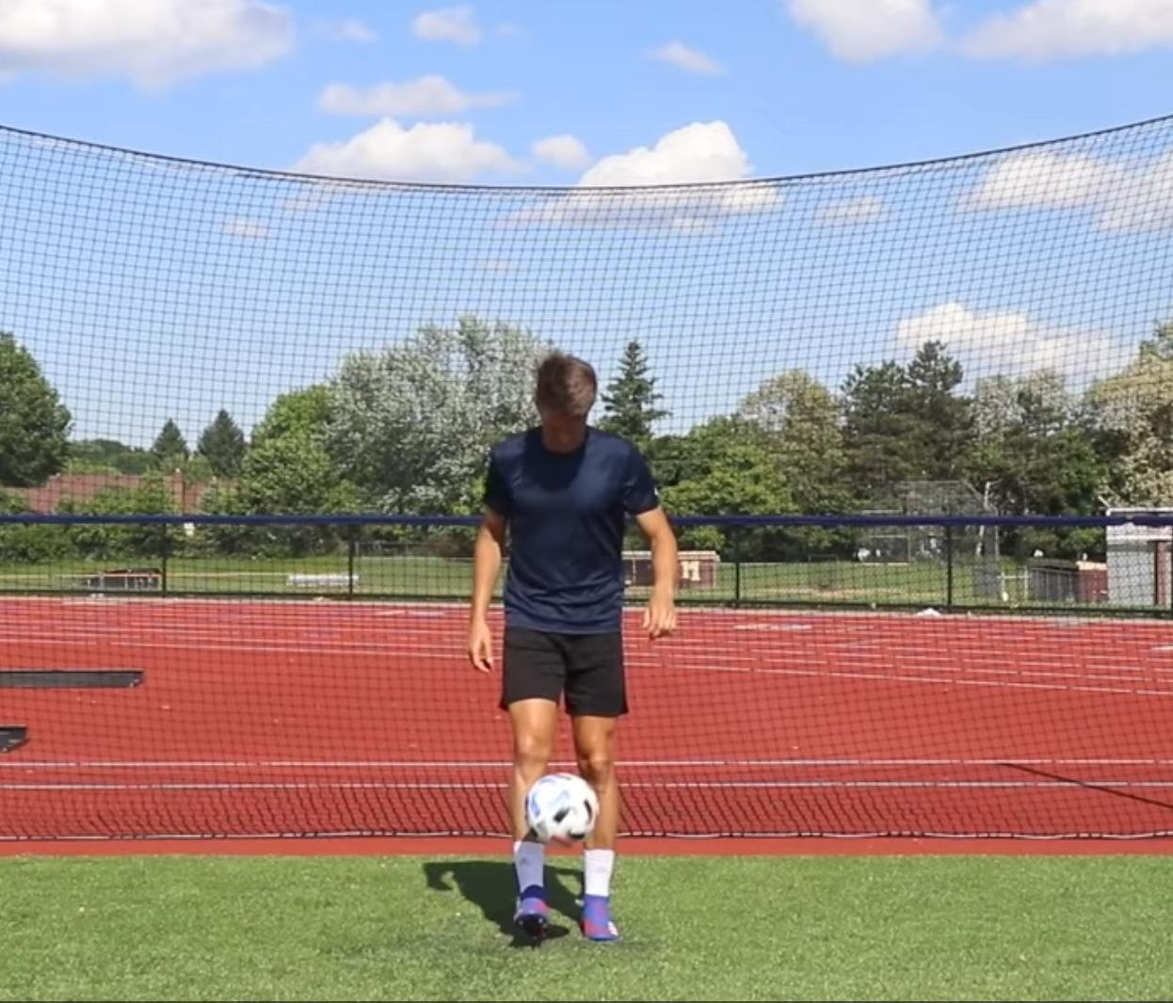ball: (524, 772, 599, 841)
foot: (578, 888, 620, 943), (512, 882, 547, 935)
person: (471, 352, 679, 941)
